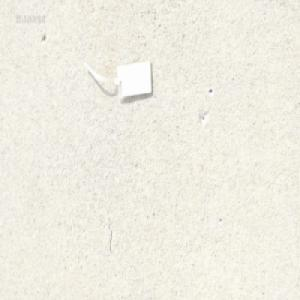LuggageTag: (82, 56, 154, 102)
